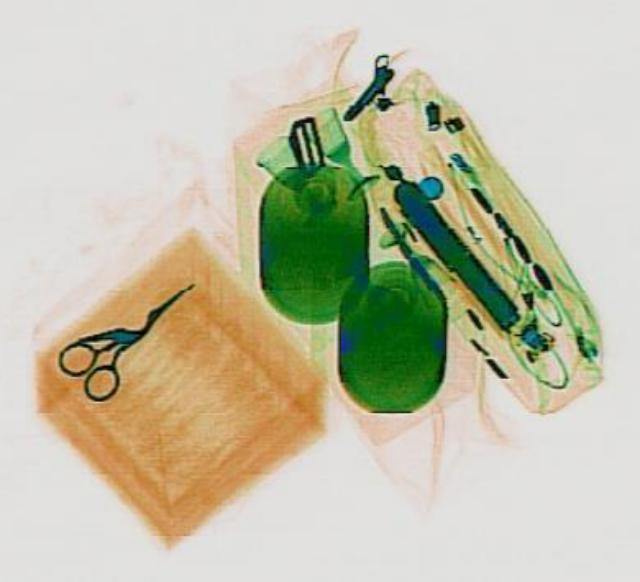Scissors: (46, 260, 220, 402)
